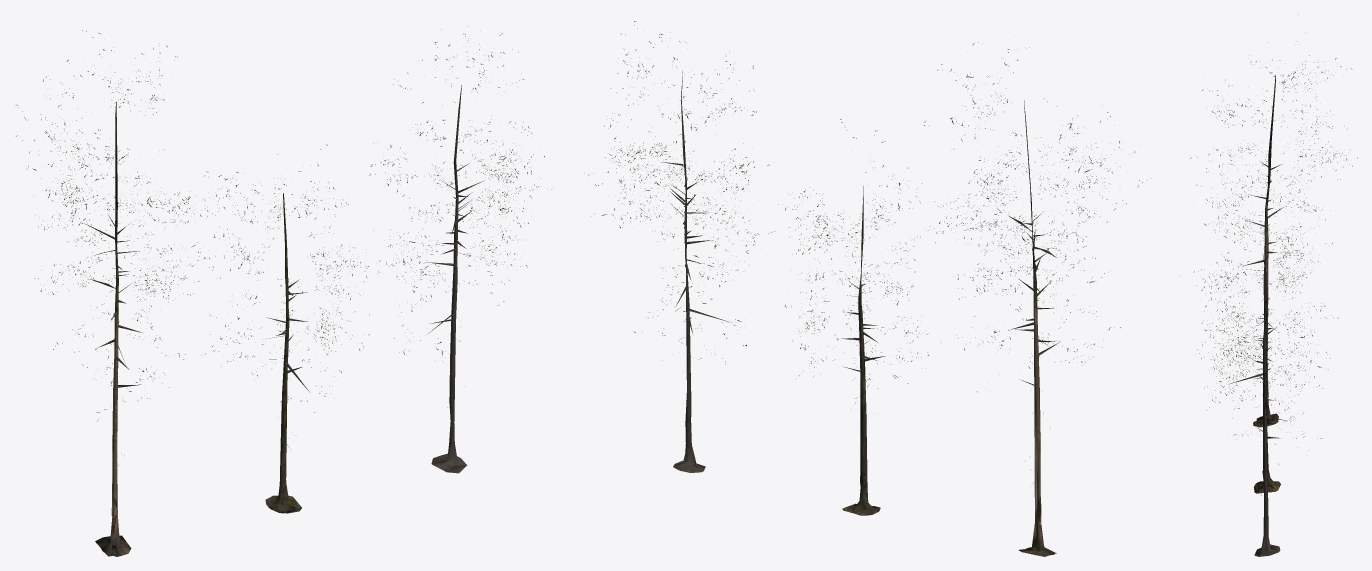
File: pine_tree_01.glb
The picture shows the model from 3 angles, left to right: view 1: azimuth 30°, elevation 25°; view 2: azimuth 150°, elevation 25°; view 3: azimuth 270°, elevation 25°; orthographic projection. The views are drawn at different scales.
Parts seen in each view (by area): view 1: pine_tree_01_a_LOD0, pine_tree_01_c_LOD0, pine_tree_01_b_LOD0; view 2: pine_tree_01_a_LOD0, pine_tree_01_c_LOD0, pine_tree_01_b_LOD0; view 3: pine_tree_01_c_LOD0, pine_tree_01_a_LOD0, pine_tree_01_b_LOD0.
Boxes of the visible parts, x1=… form: pine_tree_01_a_LOD0: x1=16, y1=30, x2=225, y2=556; pine_tree_01_c_LOD0: x1=369, y1=26, x2=553, y2=473; pine_tree_01_b_LOD0: x1=199, y1=144, x2=380, y2=513; pine_tree_01_a_LOD0: x1=924, y1=42, x2=1147, y2=556; pine_tree_01_c_LOD0: x1=584, y1=21, x2=775, y2=472; pine_tree_01_b_LOD0: x1=778, y1=119, x2=941, y2=515; pine_tree_01_c_LOD0: x1=1196, y1=223, x2=1338, y2=556; pine_tree_01_a_LOD0: x1=1190, y1=14, x2=1357, y2=427; pine_tree_01_b_LOD0: x1=1193, y1=203, x2=1332, y2=493.
Bounding box in the file's own units: 3.88 × 3.7 × 1.47.
6 materials, 6 textured.
